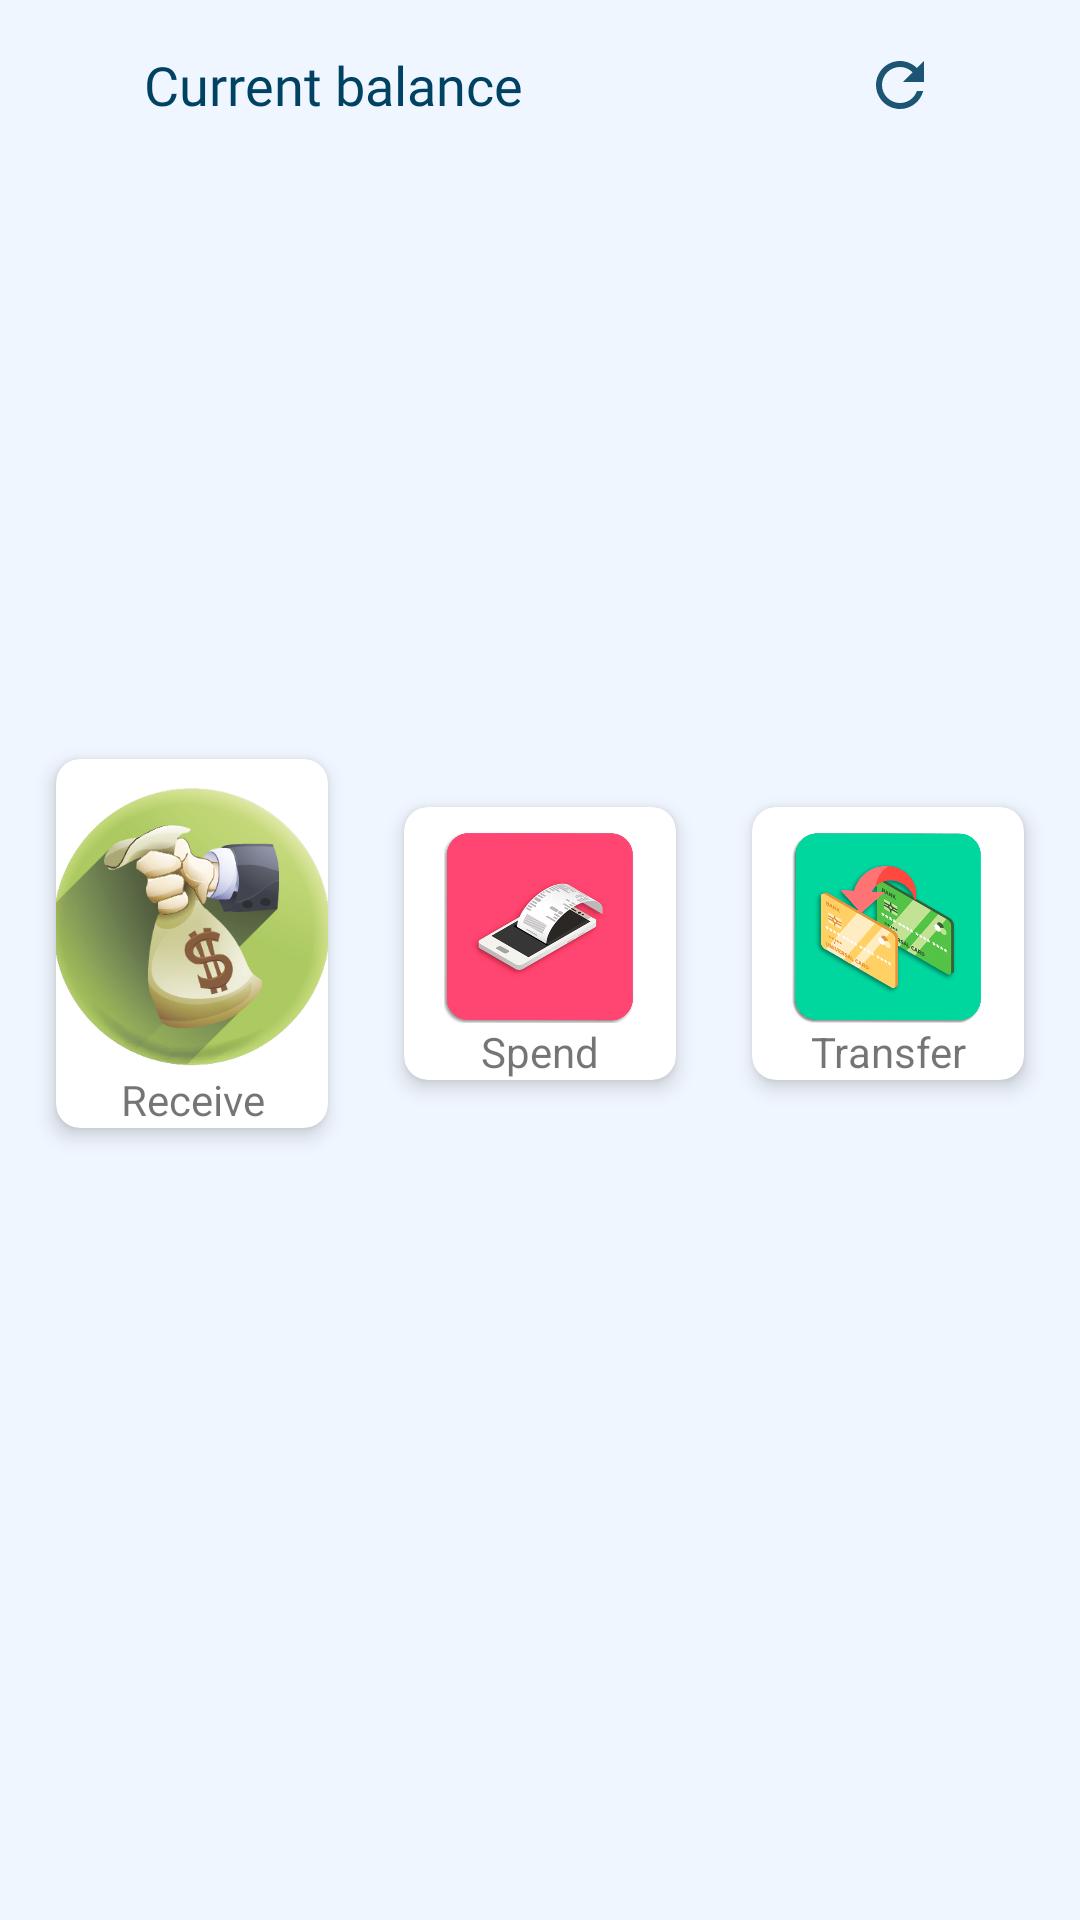

Icon click points for this 1080 x 1920 phone screenshot, format [x,y]:
refresh: [900,85]
